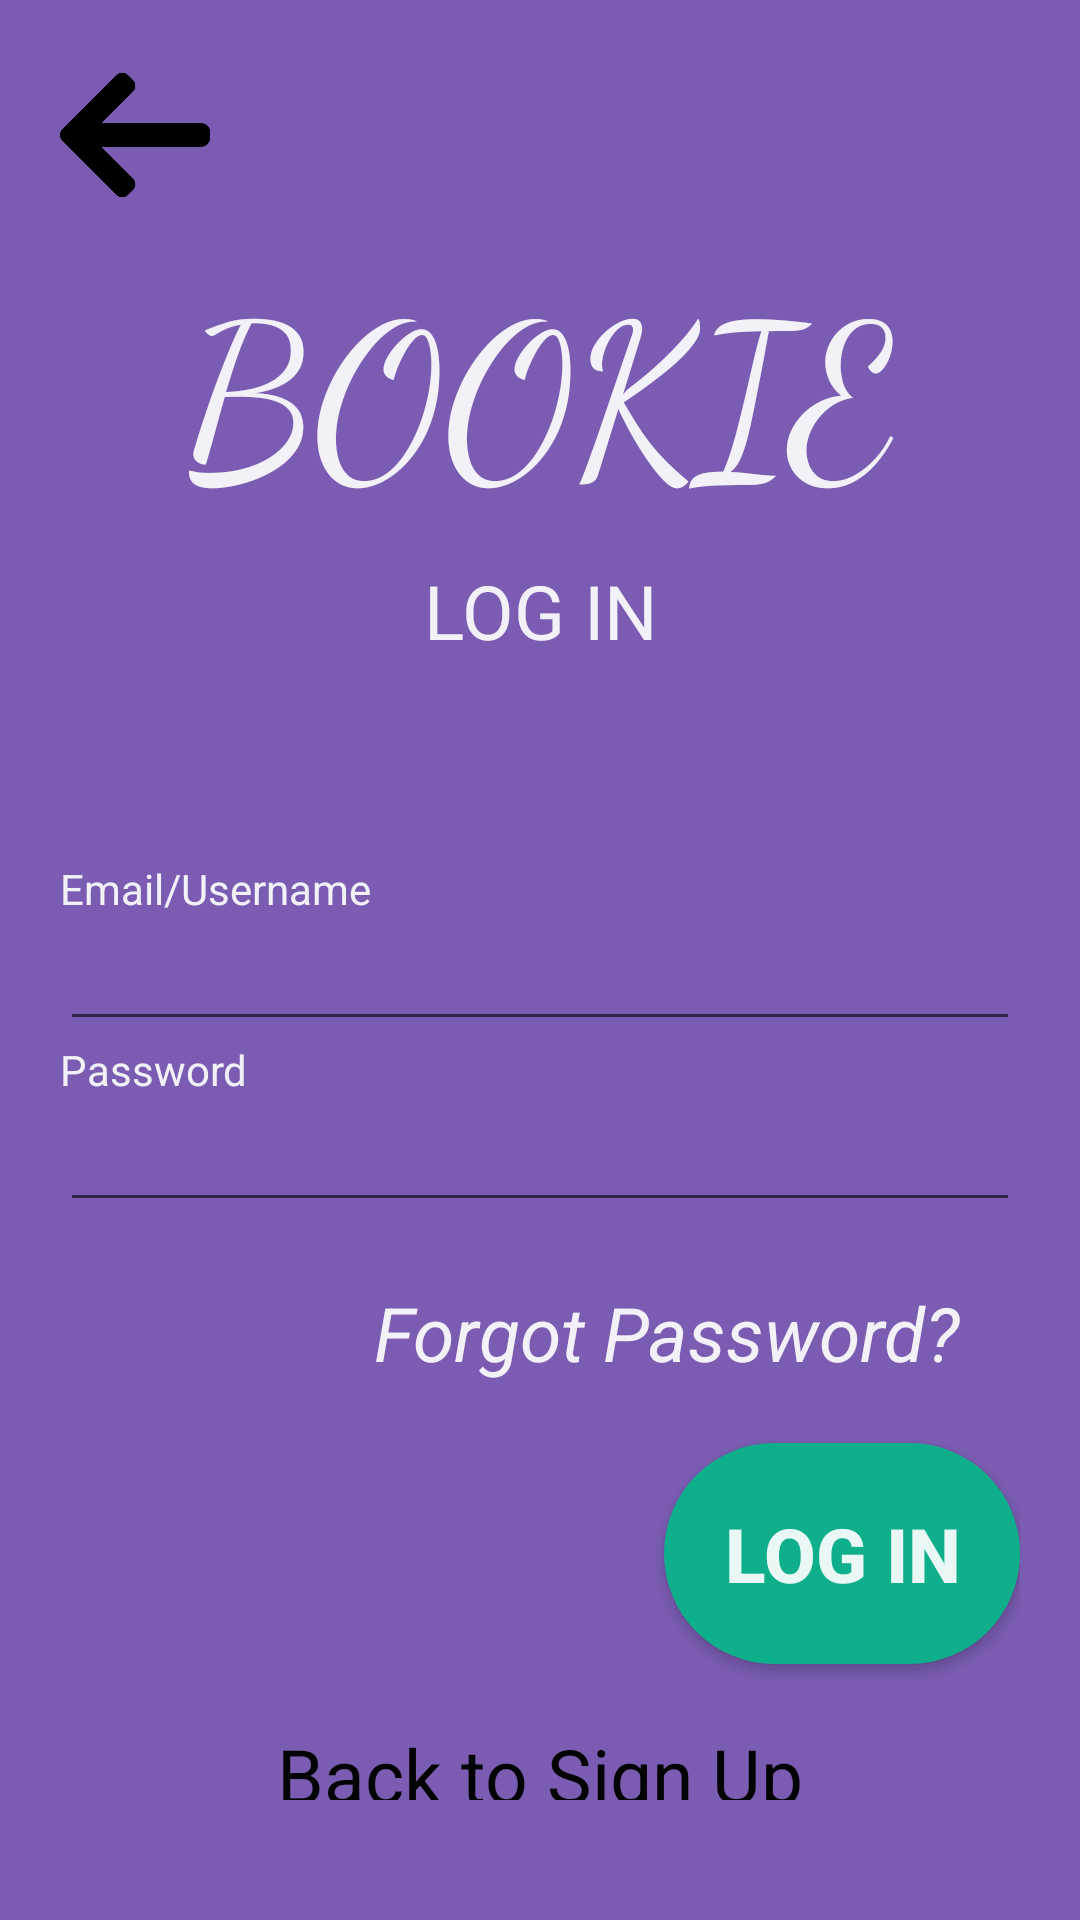

Where to tap for icons on this 1080×1920 app screen, as (x,y):
back: (135,135)
